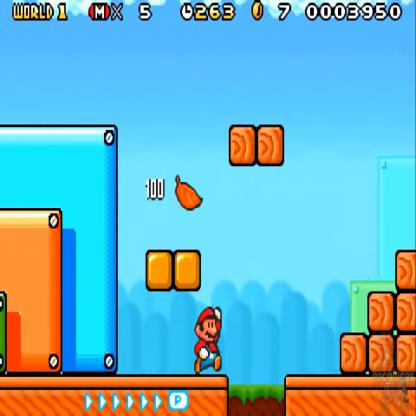Mario: (189, 302, 225, 379)
hoja: (172, 170, 205, 217)
moneda: (250, 0, 266, 29)
